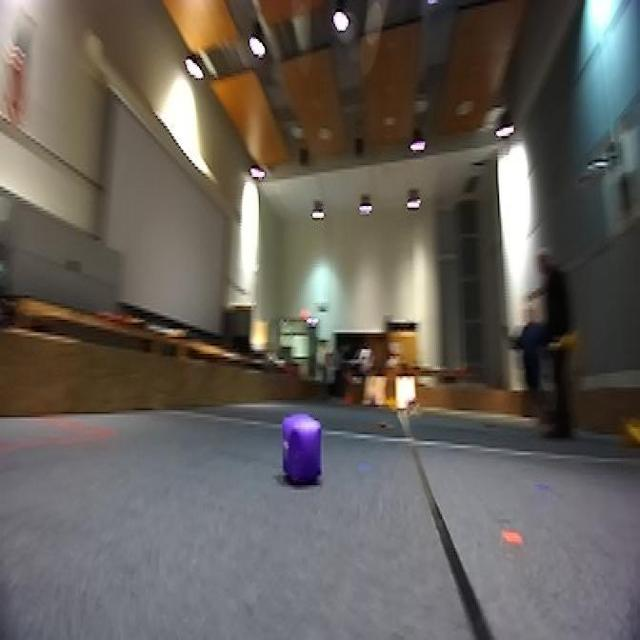frc_cone: (548, 325, 581, 358), (618, 413, 640, 452), (383, 393, 398, 410)
frc_cube: (279, 412, 324, 487), (407, 397, 419, 417), (368, 395, 377, 412)
